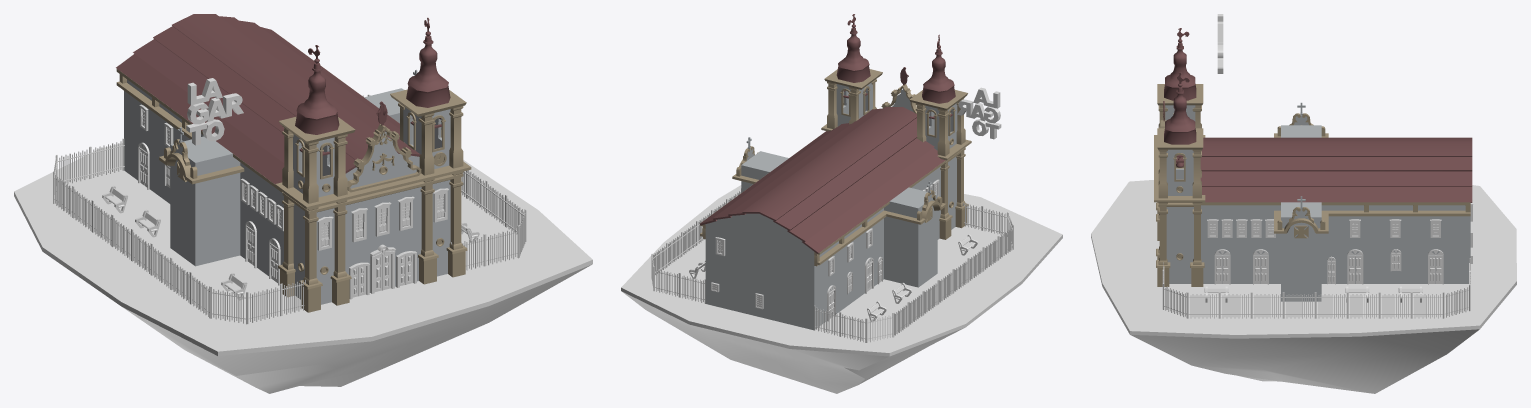
File: Igreja de Lagarto.fbx
3 renders of one model, left to right at view 1: azimuth 30°, elevation 25°; view 2: azimuth 150°, elevation 25°; view 3: azimuth 270°, elevation 25°, orthographic. The views are drawn at different scales.
Parts seen in each view (by area): view 1: Chao, Teto, Base, Grade e Bancos, Pilares, Top, Lateral, Portas Frente, Janelas Frente, Portas, Janelas; view 2: Chao, Base, Teto, Grade e Bancos, Top, Pilares, Lateral, Janelas, Portas; view 3: Chao, Base, Teto, Grade e Bancos, Pilares, Lateral, Portas, Janelas, Top.
Part boxes in pixels (x1,y1,x2,y2): Chao: [14, 143, 592, 393]; Teto: [116, 14, 450, 184]; Base: [124, 69, 450, 304]; Grade e Bancos: [53, 78, 526, 324]; Pilares: [275, 89, 471, 312]; Top: [282, 103, 463, 203]; Lateral: [116, 32, 404, 192]; Portas Frente: [349, 244, 416, 299]; Janelas Frente: [317, 188, 448, 250]; Portas: [138, 142, 280, 285]; Janelas: [139, 104, 283, 231]; Chao: [621, 185, 1062, 393]; Base: [705, 82, 957, 330]; Teto: [700, 14, 955, 253]; Grade e Bancos: [651, 87, 1013, 342]; Top: [827, 79, 965, 156]; Pilares: [821, 69, 971, 239]; Lateral: [700, 146, 946, 266]; Janelas: [711, 179, 939, 309]; Portas: [827, 256, 882, 321]; Chao: [1091, 180, 1516, 393]; Base: [1165, 102, 1470, 301]; Teto: [1163, 28, 1472, 202]; Grade e Bancos: [1162, 14, 1470, 318]; Pilares: [1154, 84, 1205, 286]; Lateral: [1200, 113, 1470, 238]; Portas: [1214, 249, 1443, 284]; Janelas: [1207, 199, 1473, 263]; Top: [1158, 105, 1201, 198].
Bounding box in the file's own units: 2834 × 2622 × 3126.
